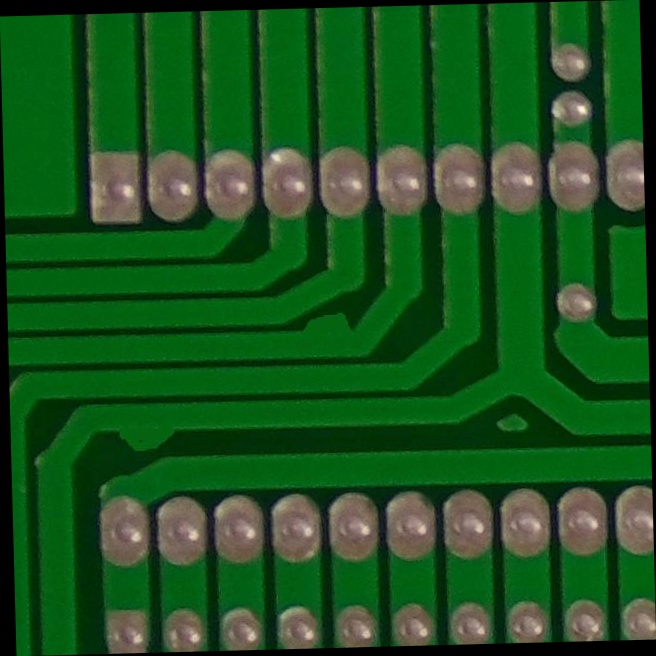spur: (293, 306, 364, 351)
